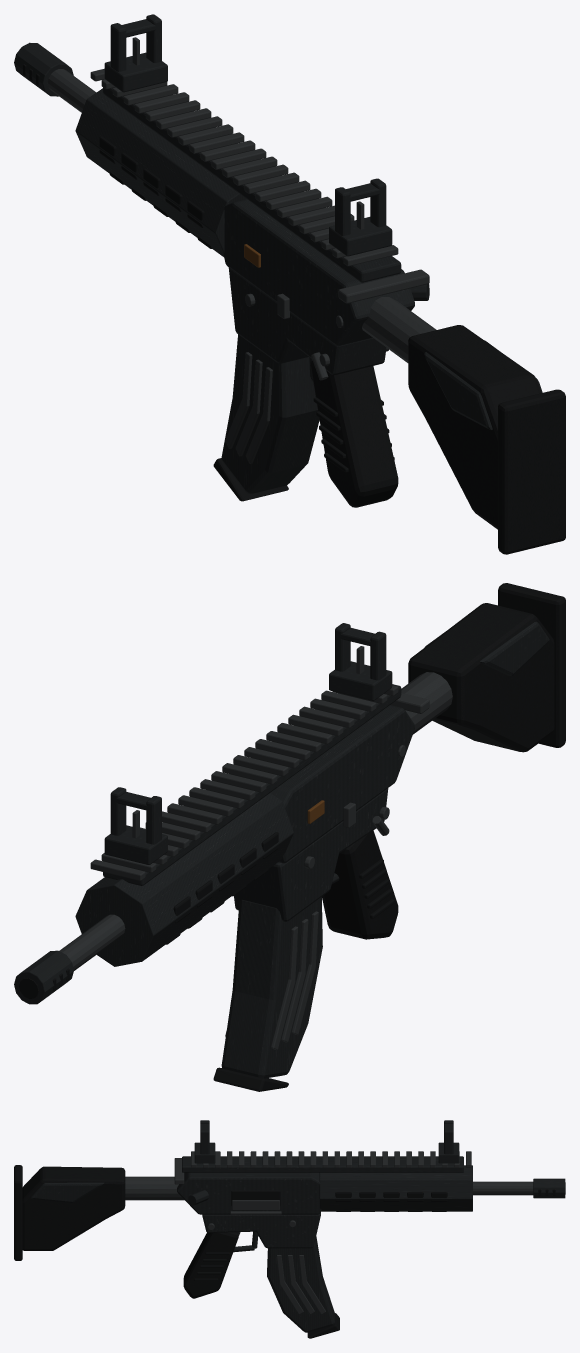
File: rifle-web.glb
3 views of the same model, one above another, from view 1: azimuth 30°, elevation 25°; view 2: azimuth 150°, elevation 25°; view 3: azimuth 270°, elevation 25° (orthographic). The views are drawn at different scales.
Bounding box in the file's own units: 0.4051 × 1.43 × 3.46.
Materials: 1 (1 with a texture image).
